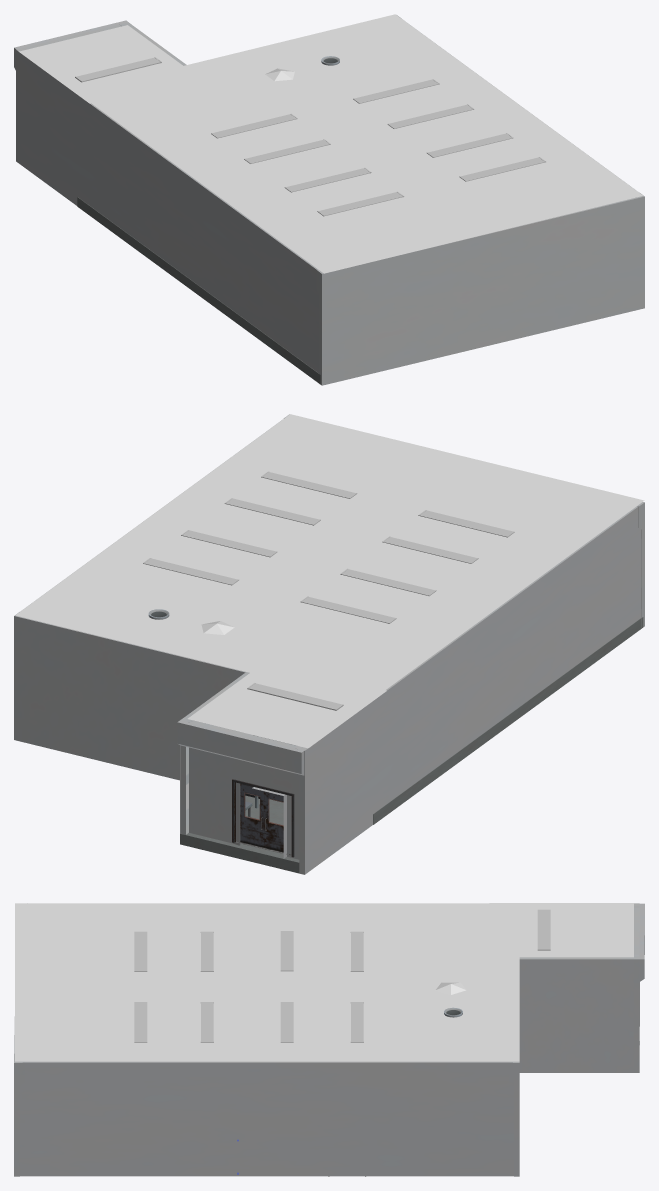
The model's file is asset2.fbx.
The picture shows the model from 3 angles, top to bottom: view 1: azimuth 30°, elevation 25°; view 2: azimuth 150°, elevation 25°; view 3: azimuth 270°, elevation 25°; orthographic projection. The views are drawn at different scales.
Visible parts, largest first — view 1: Plane.003, Wall3_Wall_grey_0.006, Wall7_Wall_grey_0.002, Floor3, Door_wall1, Cube__0.014, Cube__0.007, Cube__0.003, Cube__0.004, Cube__0.006, Cube__0.011, Cube__0.001 (+2 smaller); view 2: Plane.003, Wall7_Wall_grey_0.002, Wall2, Door_wall1, Wall1, Floor3, Object_3.002, Floor1, Wall4, Cube__0.014, Cube__0.004, Cube__0.011 (+6 smaller); view 3: Plane.003, Wall3, Wall4, Door_wall1, Wall3_Wall_grey_0.006, Wall2, Cube__0.014, Cube__0.004, Cube__0.011, Cube__0.001, Cube__0.005, Cube__0.003 (+3 smaller).
Part boxes in pixels (x1,y1,x2,y2): Plane.003: (19, 14, 642, 273); Wall3_Wall_grey_0.006: (316, 192, 644, 385); Wall7_Wall_grey_0.002: (16, 47, 322, 373); Floor3: (77, 197, 320, 384); Door_wall1: (14, 20, 131, 70); Cube__0.014: (75, 57, 161, 82); Cube__0.007: (427, 133, 513, 157); Cube__0.003: (353, 79, 439, 103); Cube__0.004: (387, 104, 474, 128); Cube__0.006: (211, 113, 297, 138); Cube__0.011: (459, 157, 545, 181); Cube__0.001: (317, 191, 404, 216); Plane.003: (15, 414, 644, 748); Wall7_Wall_grey_0.002: (295, 502, 642, 874); Wall2: (14, 612, 132, 768); Door_wall1: (177, 719, 304, 870); Wall1: (132, 644, 249, 780); Floor3: (265, 617, 643, 824); Object_3.002: (232, 779, 294, 857); Floor1: (180, 795, 299, 873); Wall4: (180, 672, 250, 834); Cube__0.014: (247, 683, 343, 710); Cube__0.004: (181, 530, 277, 557); Cube__0.011: (261, 471, 357, 498); Plane.003: (15, 903, 633, 1061); Wall3: (20, 1061, 516, 1176); Wall4: (519, 954, 639, 1072); Door_wall1: (633, 903, 644, 1072); Wall3_Wall_grey_0.006: (14, 1016, 24, 1176); Wall2: (508, 1061, 519, 1176); Cube__0.014: (537, 909, 550, 950); Cube__0.004: (280, 1002, 293, 1042); Cube__0.011: (134, 1002, 147, 1042); Cube__0.001: (134, 931, 147, 971); Cube__0.005: (280, 931, 293, 971); Cube__0.003: (350, 1002, 363, 1042).
Size of the model in its own units: 1231 by 425 by 2000.
